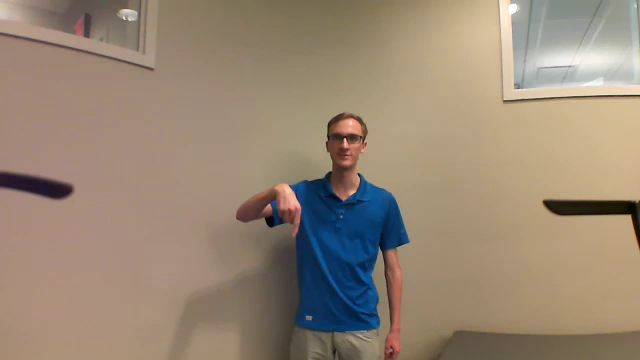down: (267, 185, 310, 244)
